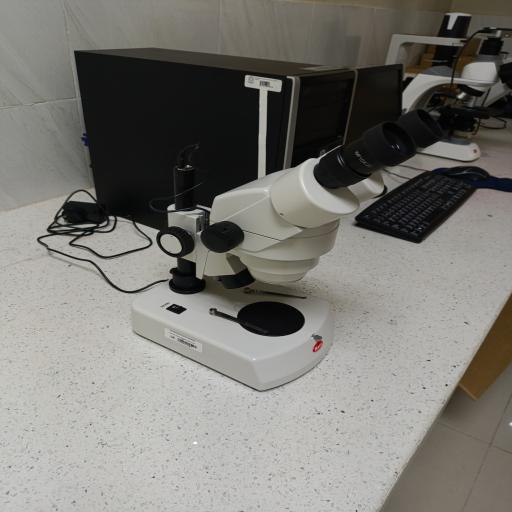Microscopio_estereo: (122, 104, 442, 396)
